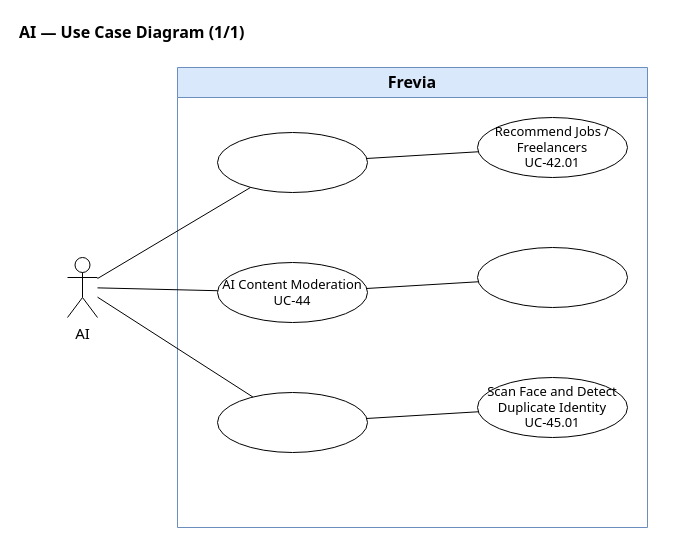
Image size: 674x545. Some labels were removed from this diagram. Each missing label, with the centre of its shape:
"AI Face Scan & Duplicate Detection UC-45" belongs at (292,422).
"Job & Freelancer Recommendation UC-42" belongs at (292,162).
"Moderate Content by AI UC-44.01" belongs at (552,277).
